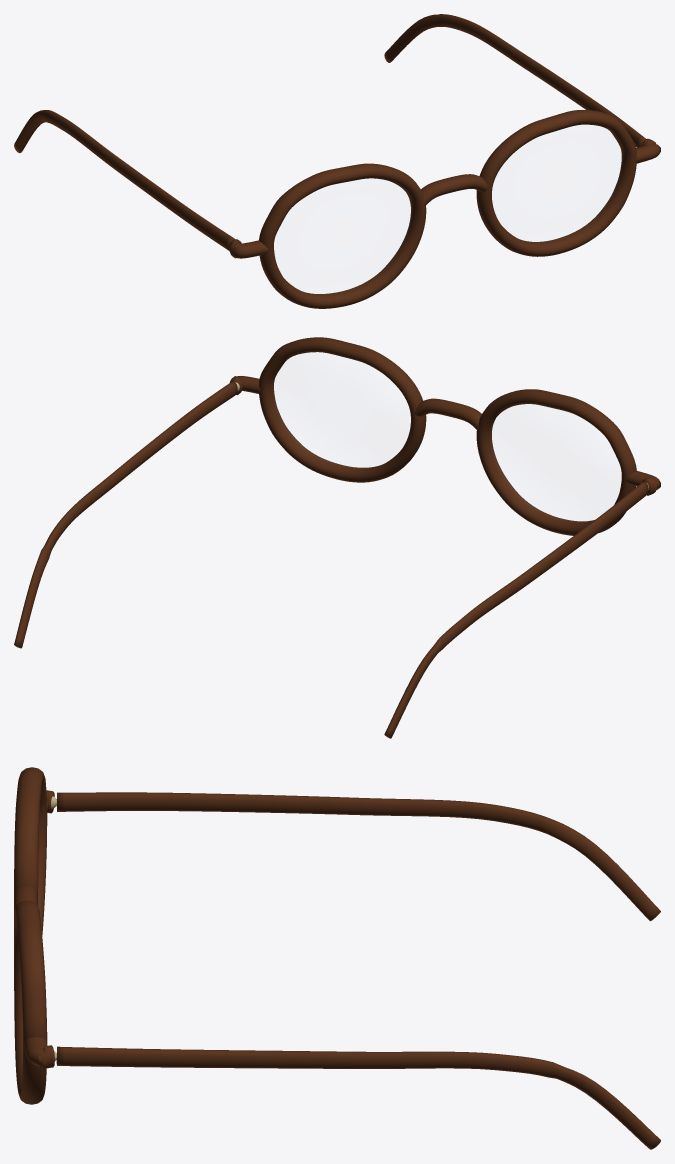
3 views of the same model, one above another, from view 1: azimuth 30°, elevation 25°; view 2: azimuth 150°, elevation 25°; view 3: azimuth 270°, elevation 25° (orthographic). The views are drawn at different scales.
Visible parts, largest first — view 1: Rim_image_left; view 2: Rim_image_left; view 3: Rim_image_left.
Boxes of the visible parts, bbox=[...] form: Rim_image_left: bbox=[14, 14, 660, 308]; Rim_image_left: bbox=[14, 337, 660, 738]; Rim_image_left: bbox=[14, 767, 660, 1149].
Size of the model in its own units: 0.14 by 0.0455 by 0.1448.
